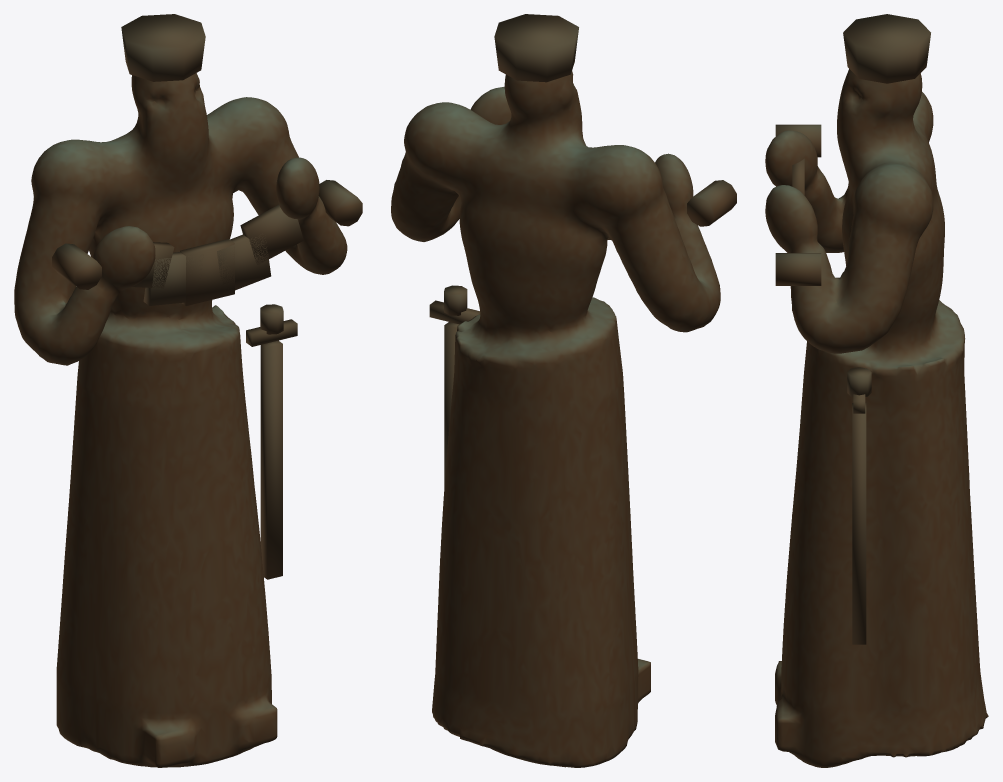
The model's file is pharnavaz.glb.
3 views of the same model, side by side, from view 1: azimuth 30°, elevation 25°; view 2: azimuth 150°, elevation 25°; view 3: azimuth 270°, elevation 25° (orthographic).
Visible parts, largest first — view 1: ph_m; view 2: ph_m; view 3: ph_m.
Boxes of the visible parts, bbox=[...] form: ph_m: bbox=[14, 14, 362, 767]; ph_m: bbox=[391, 14, 736, 767]; ph_m: bbox=[765, 14, 988, 767].
Bounding box in the file's own units: 0.4633 × 1 × 0.2873.
